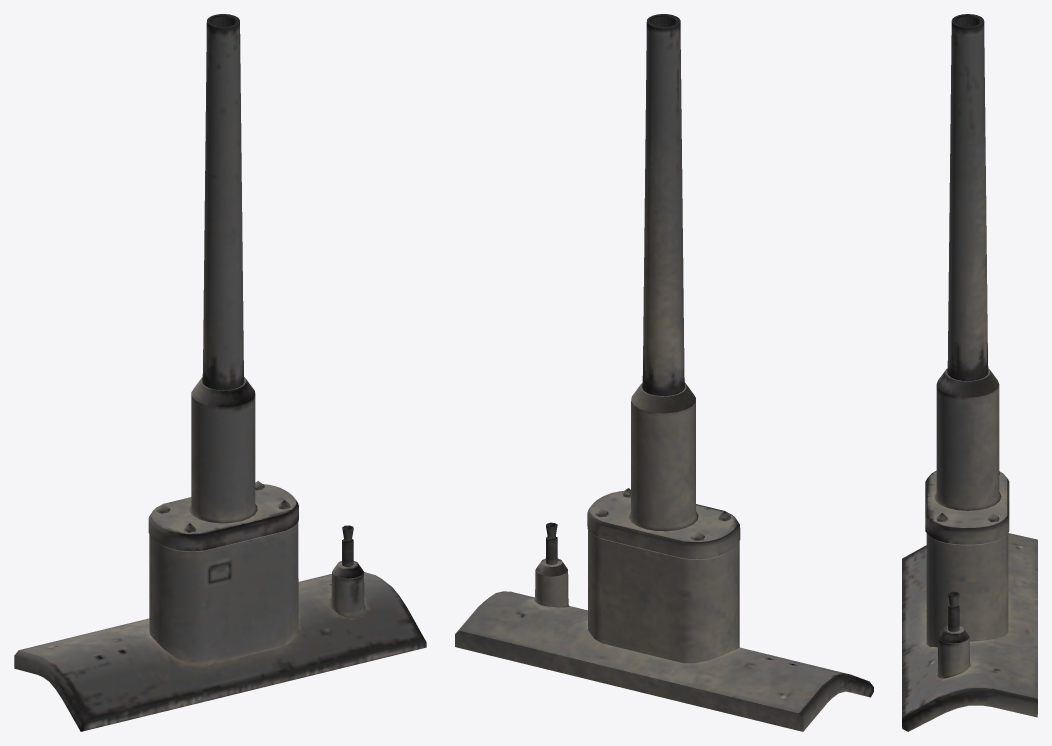
Rendered from Gun_01.glb.
The picture shows the model from 3 angles, left to right: view 1: azimuth 30°, elevation 25°; view 2: azimuth 150°, elevation 25°; view 3: azimuth 270°, elevation 25°; orthographic projection. The views are drawn at different scales.
Visible parts, largest first — view 1: set_0_group_0; view 2: set_0_group_0; view 3: set_0_group_0.
Boxes of the visible parts, left/top/right/bottom form: set_0_group_0: left=14, top=14, right=426, bottom=731; set_0_group_0: left=455, top=14, right=873, bottom=731; set_0_group_0: left=902, top=14, right=1037, bottom=731.
Size of the model in its own units: 1.18 by 2.12 by 0.4136.
Materials: 1 (1 with a texture image).
